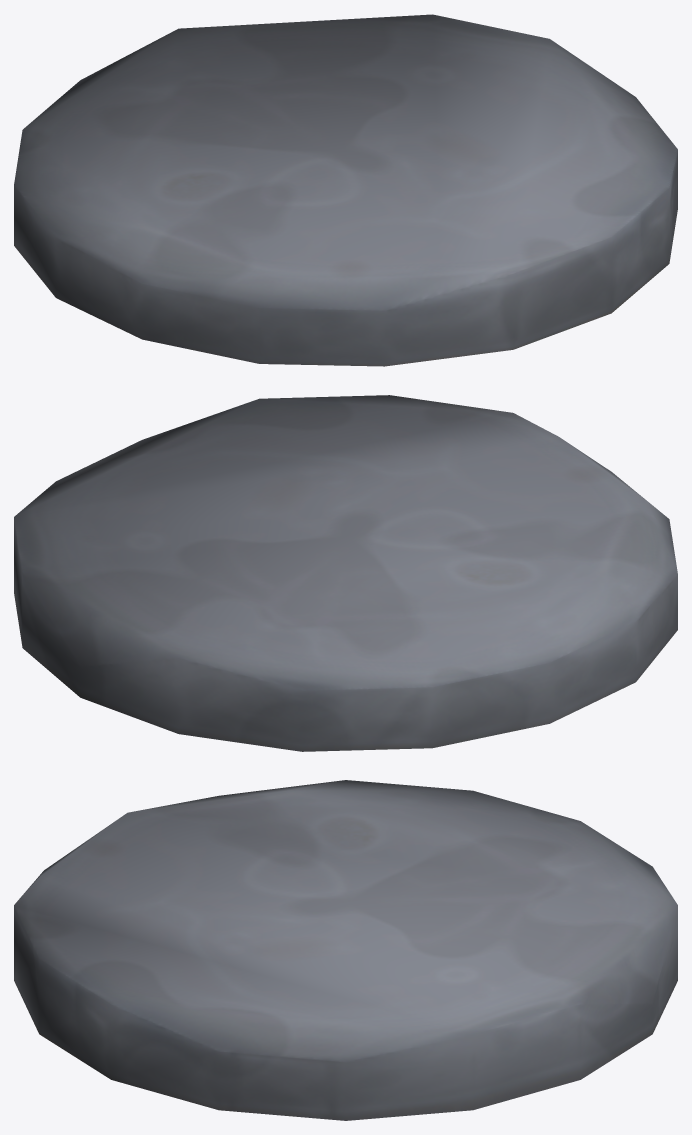
Rendered from StoneFloor_Circle.fbx.
3 renders of one model, top to bottom at view 1: azimuth 30°, elevation 25°; view 2: azimuth 150°, elevation 25°; view 3: azimuth 270°, elevation 25°, orthographic.
Visible parts, largest first — view 1: U_StoneFloor_Circle; view 2: U_StoneFloor_Circle; view 3: U_StoneFloor_Circle.
Boxes of the visible parts, x1,y1,x2,y2 form: U_StoneFloor_Circle: (14,14,677,366); U_StoneFloor_Circle: (14,395,677,751); U_StoneFloor_Circle: (14,780,677,1120).
Size of the model in its own units: 179 by 22.42 by 179.
1 material, 1 textured.
